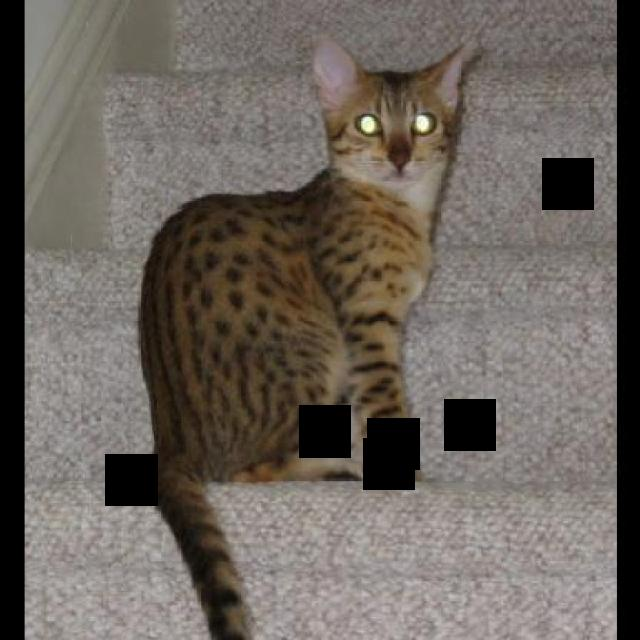unauthorized: (135, 32, 483, 638)
